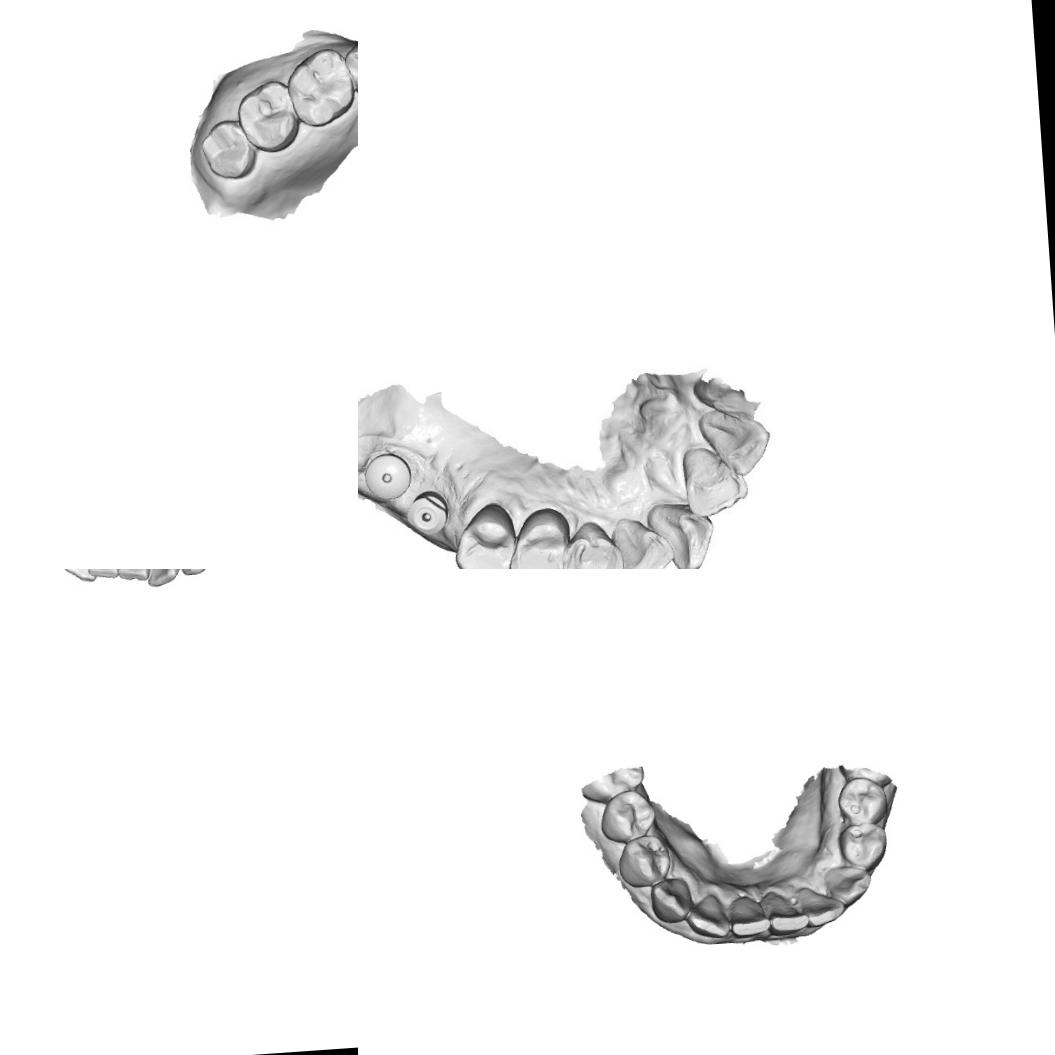canine: (822, 861, 875, 910), (648, 874, 694, 924)
implant: (358, 443, 417, 504), (404, 484, 450, 534)
incisor: (700, 404, 768, 469), (650, 504, 715, 569), (682, 448, 745, 510), (683, 890, 734, 940), (615, 521, 668, 569), (794, 882, 848, 929), (760, 888, 810, 936), (726, 892, 772, 938), (140, 569, 182, 587), (58, 569, 108, 584), (113, 569, 152, 583)
molar: (281, 44, 357, 129), (234, 73, 302, 158), (198, 114, 258, 184)
premolar: (449, 498, 518, 569), (596, 785, 658, 845), (508, 513, 572, 569), (614, 832, 673, 889), (834, 774, 889, 828), (835, 819, 890, 873), (563, 529, 621, 569), (340, 35, 358, 99)
